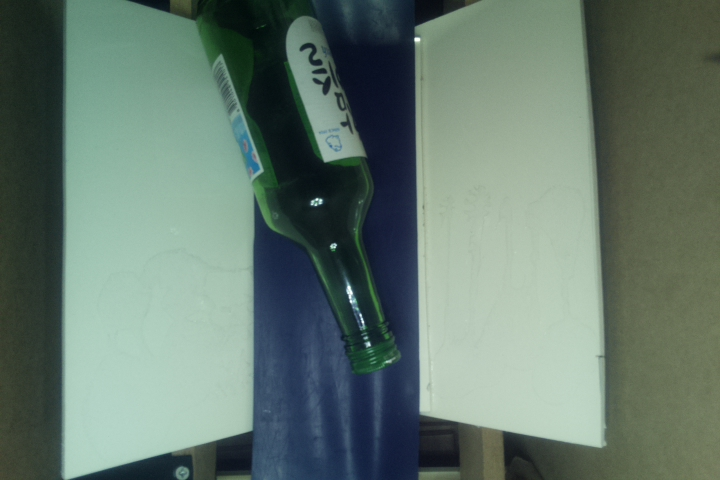soju: (189, 1, 408, 376)
